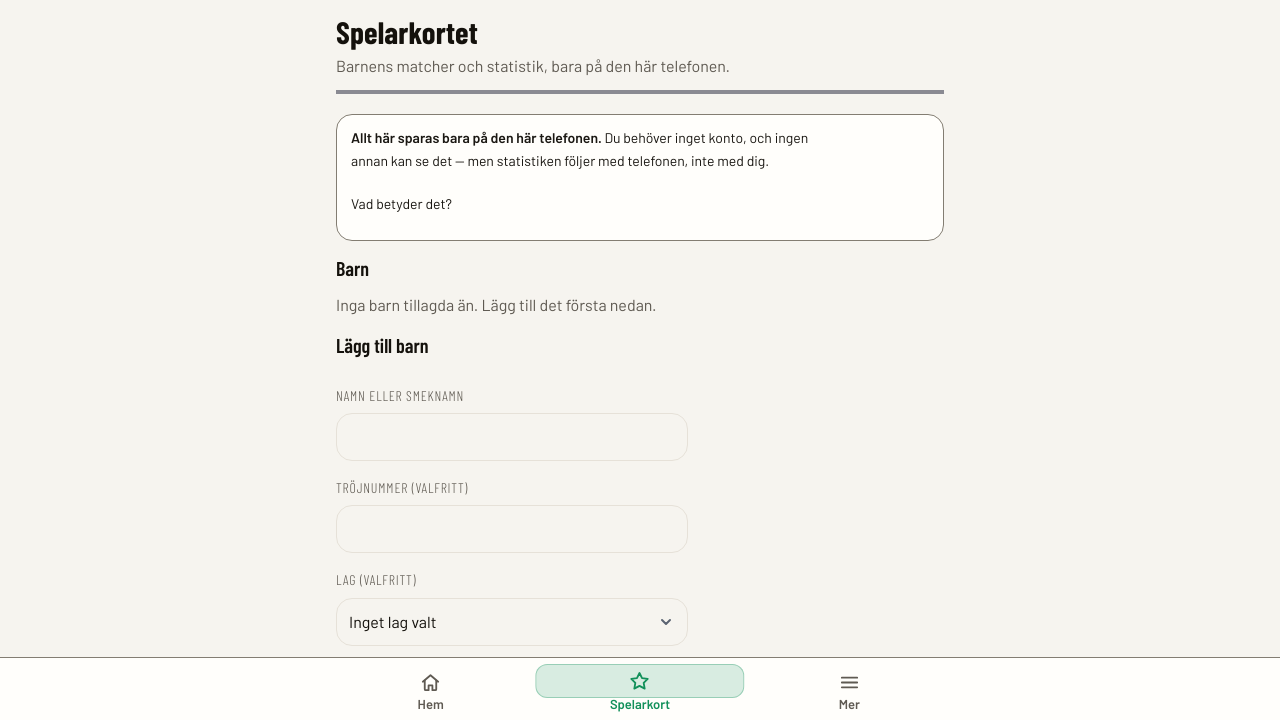
it: botten-navbaren når appens delar › tar en till "Mer"-sidan med ett klick
The image size is (1280, 720).
Click the link "Mer".
click(849, 691)  # box [838,671,861,712]
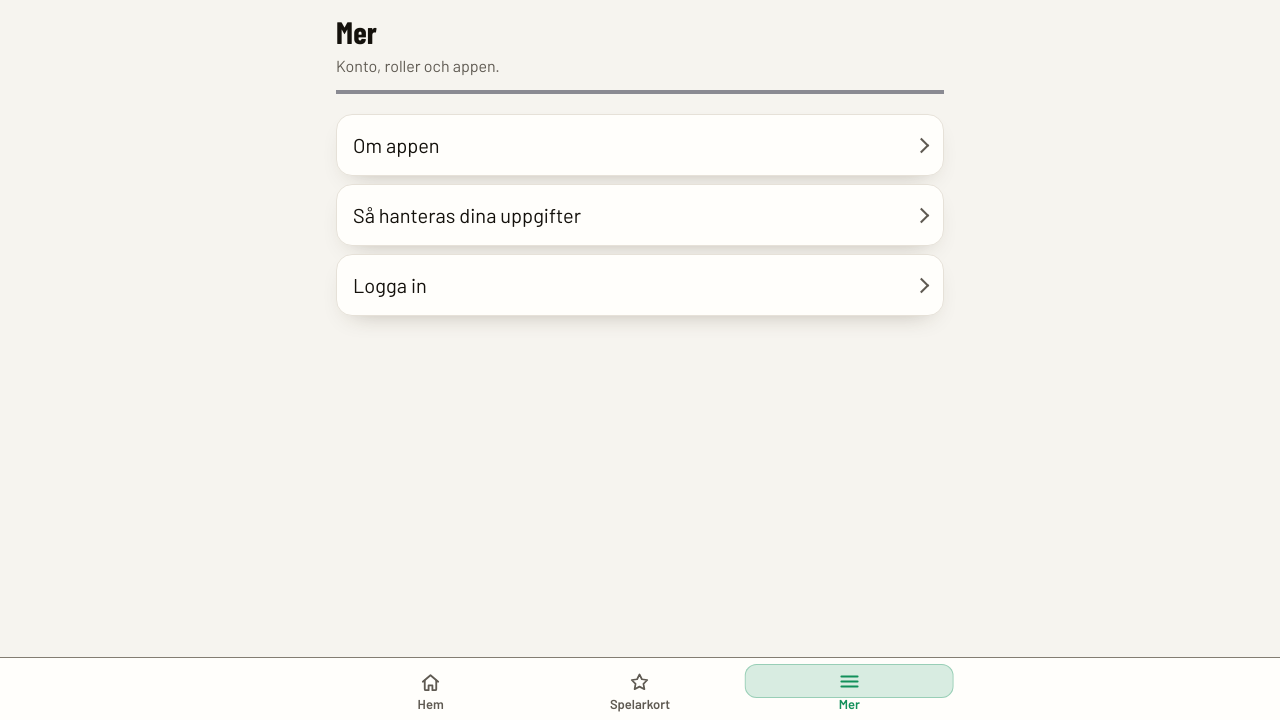
Check: the heading "Mer" is shown, box [336,13,377,50]
